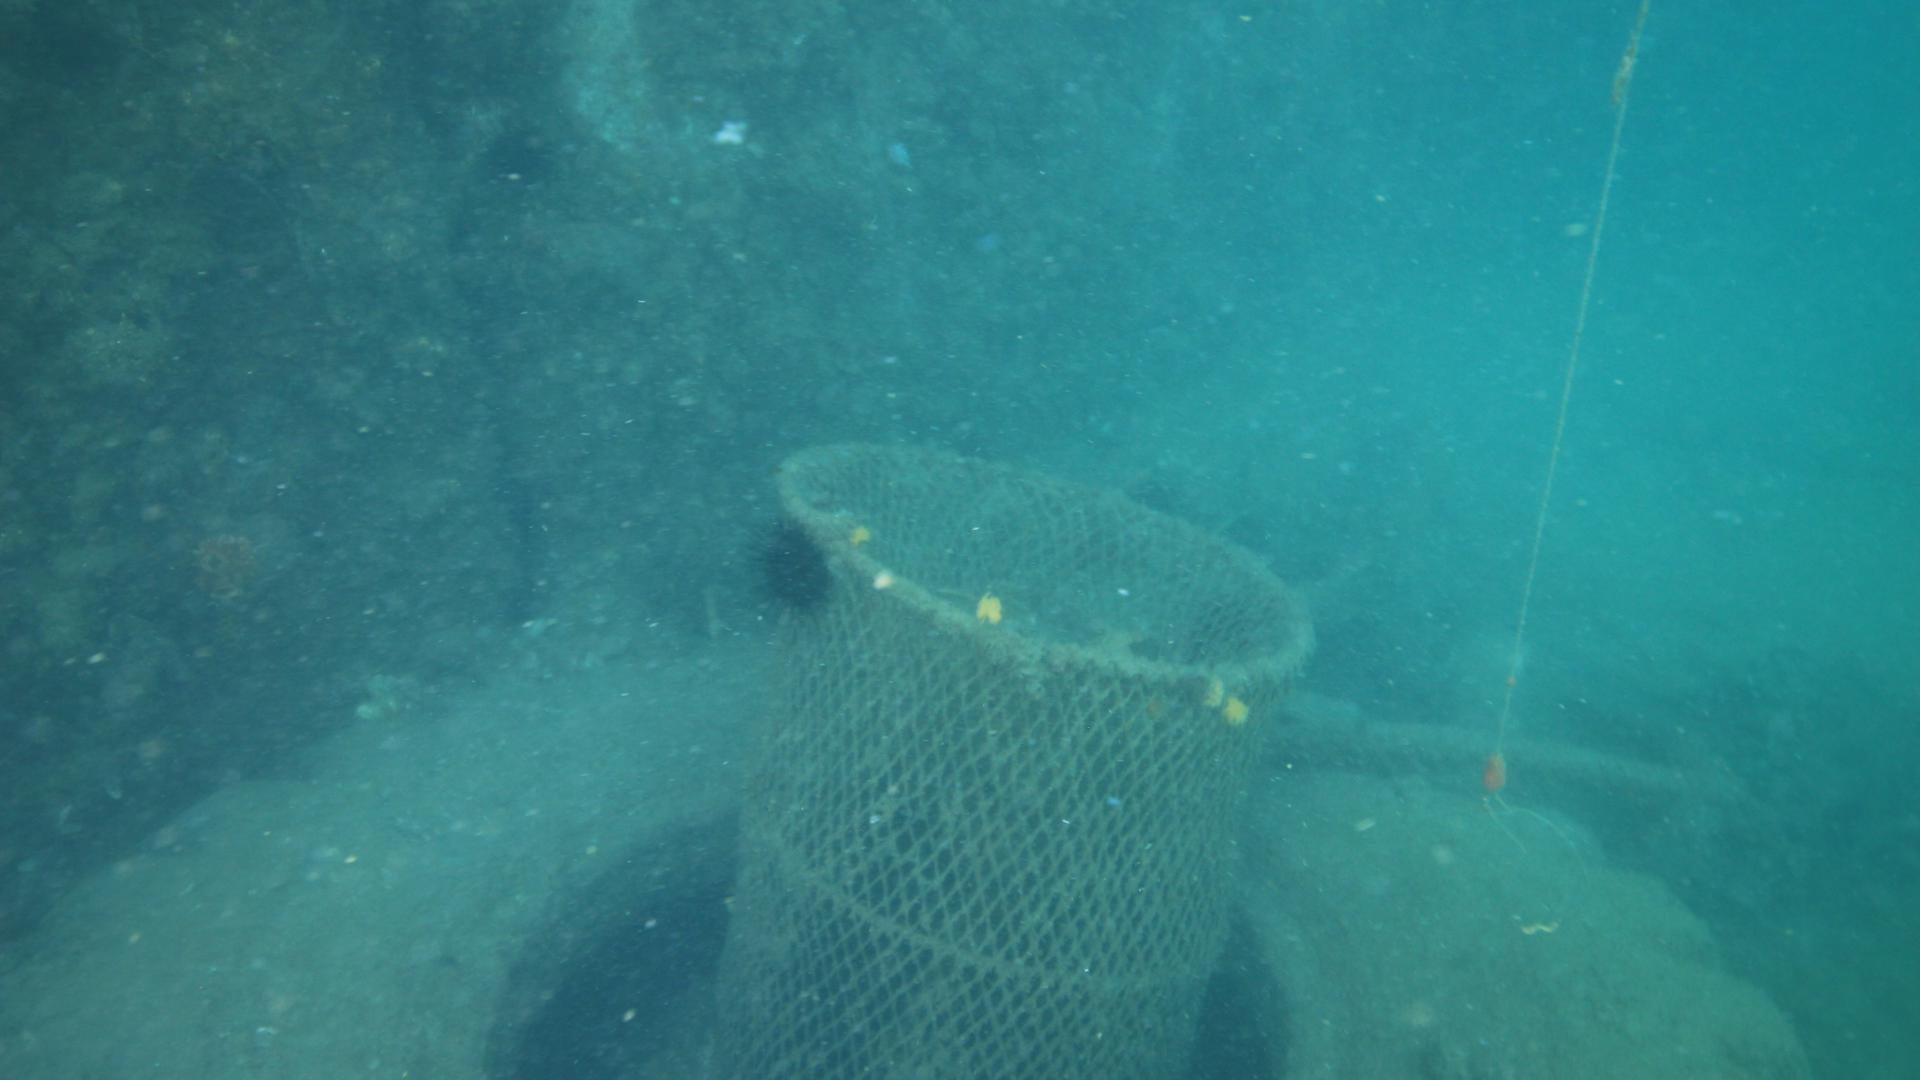spring fish trap: (696, 436, 1320, 1080)
tire: (4, 650, 1815, 1080)
